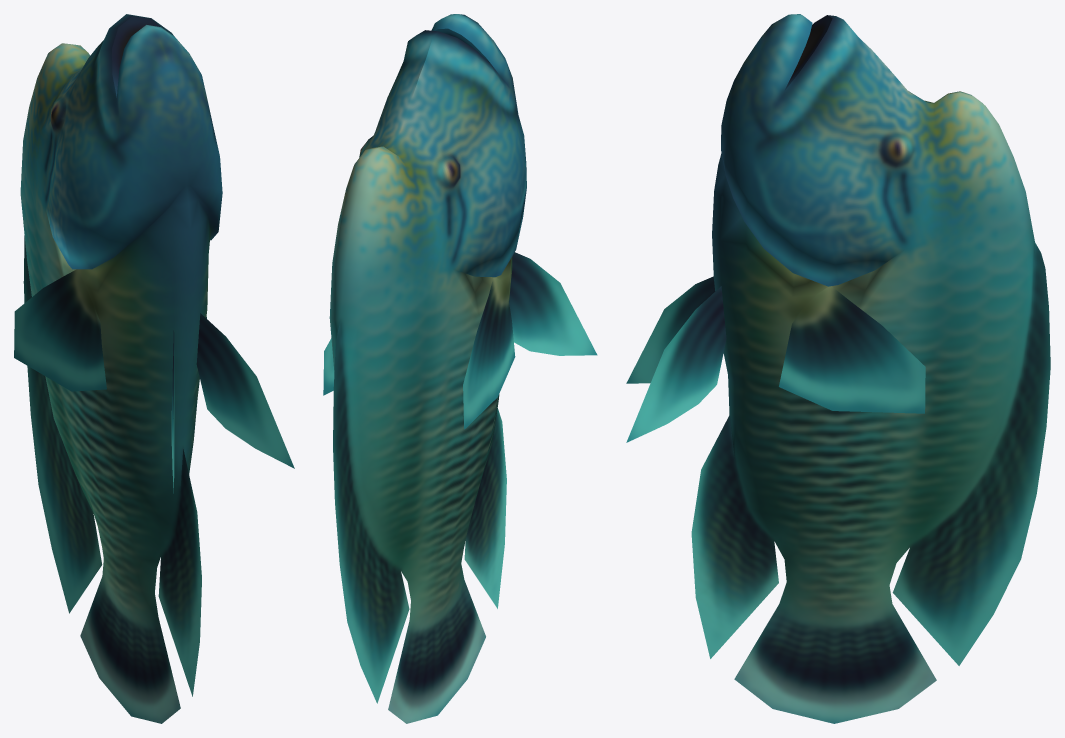
Rendered from napoleonfish.glb.
3 views of the same model, side by side, from view 1: azimuth 30°, elevation 25°; view 2: azimuth 150°, elevation 25°; view 3: azimuth 270°, elevation 25° (orthographic). The views are drawn at different scales.
Visible parts, largest first — view 1: FishNaporeonfish__mNaporeonfish; view 2: FishNaporeonfish__mNaporeonfish; view 3: FishNaporeonfish__mNaporeonfish.
Boxes of the visible parts, bbox=[...] form: FishNaporeonfish__mNaporeonfish: bbox=[14, 14, 294, 723]; FishNaporeonfish__mNaporeonfish: bbox=[323, 14, 597, 723]; FishNaporeonfish__mNaporeonfish: bbox=[626, 14, 1050, 723].
Bounding box in the file's own units: 0.4022 × 1.87 × 1.02.
Materials: 1 (1 with a texture image).
